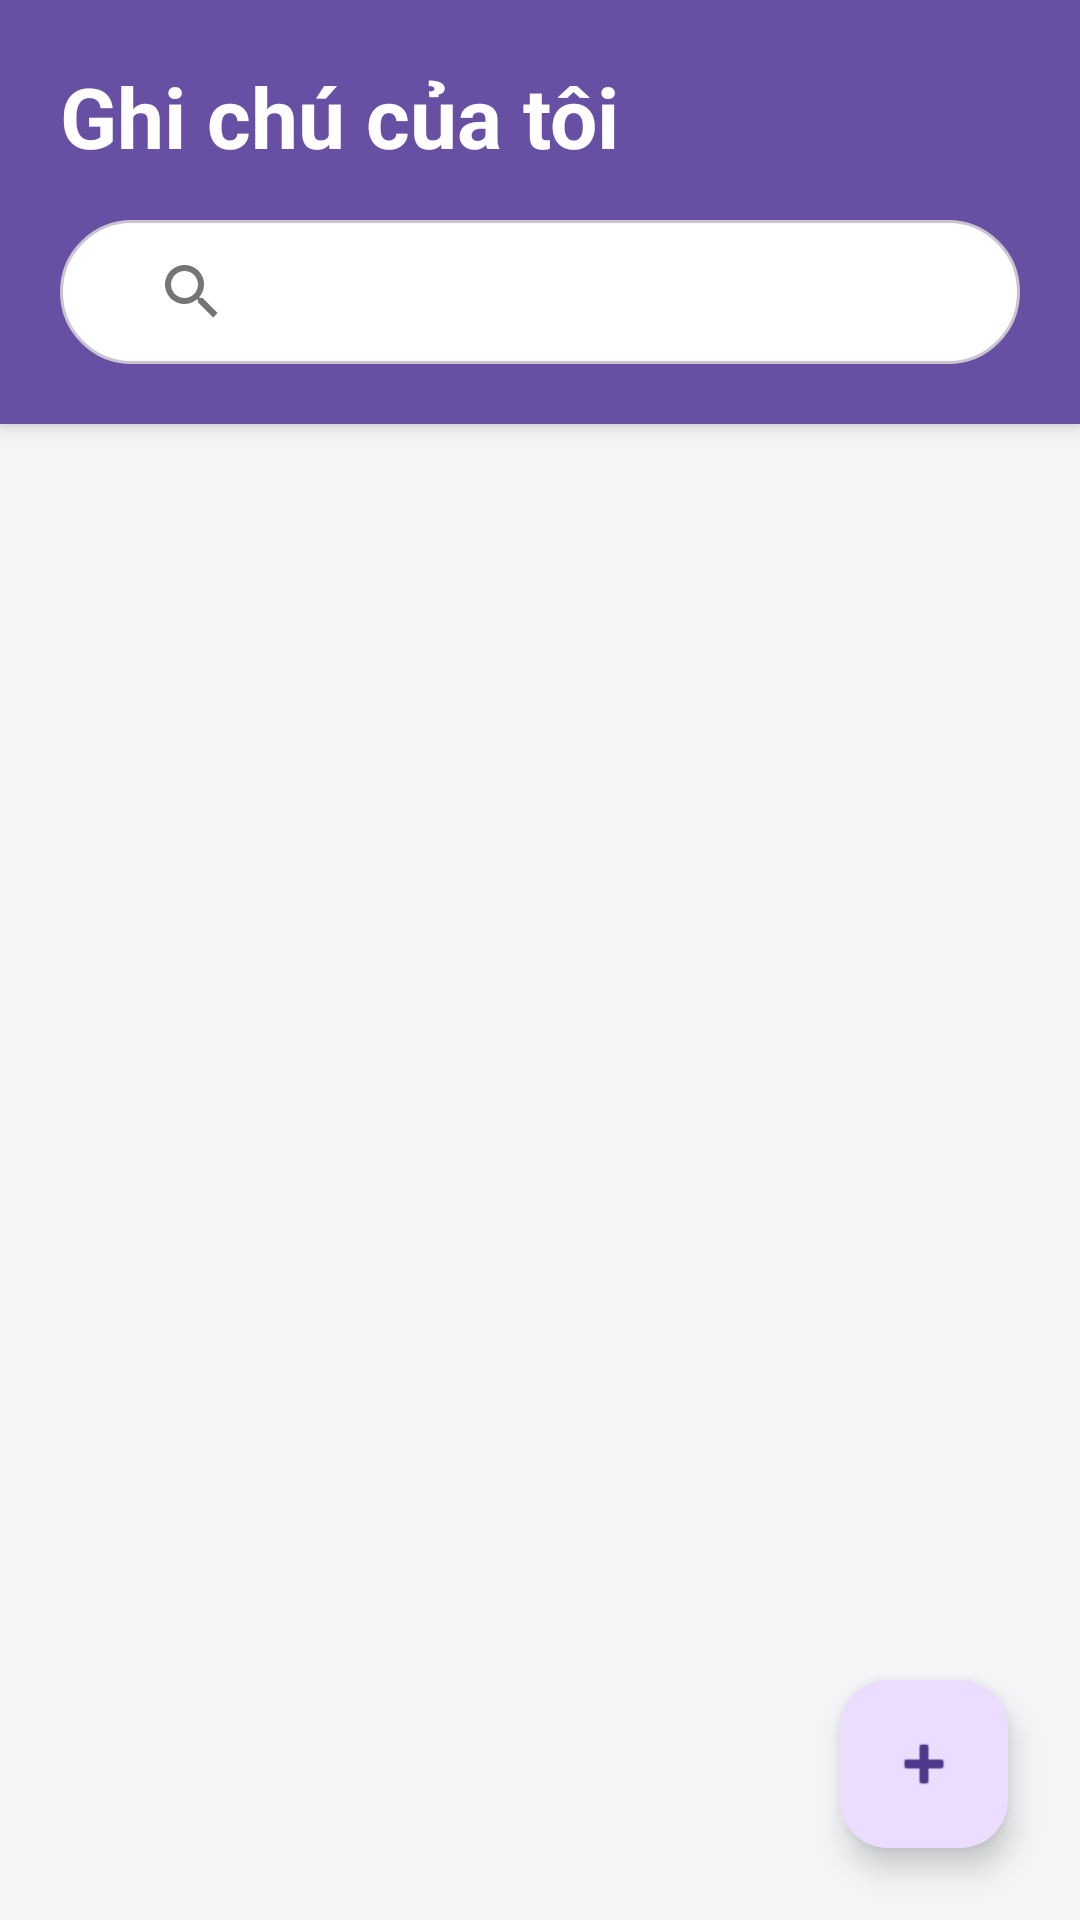

Where icons sit on this 1080×1920 app screen, as (x1, y1, x2, y2):
Thêm ghi chú mới: (840, 1680, 1008, 1848)
